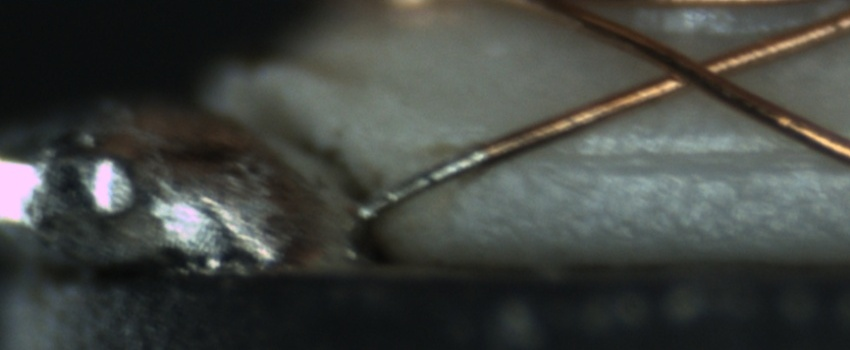CL: (640, 41, 746, 101)
DL: (544, 128, 850, 187)
TS: (358, 149, 486, 224)
